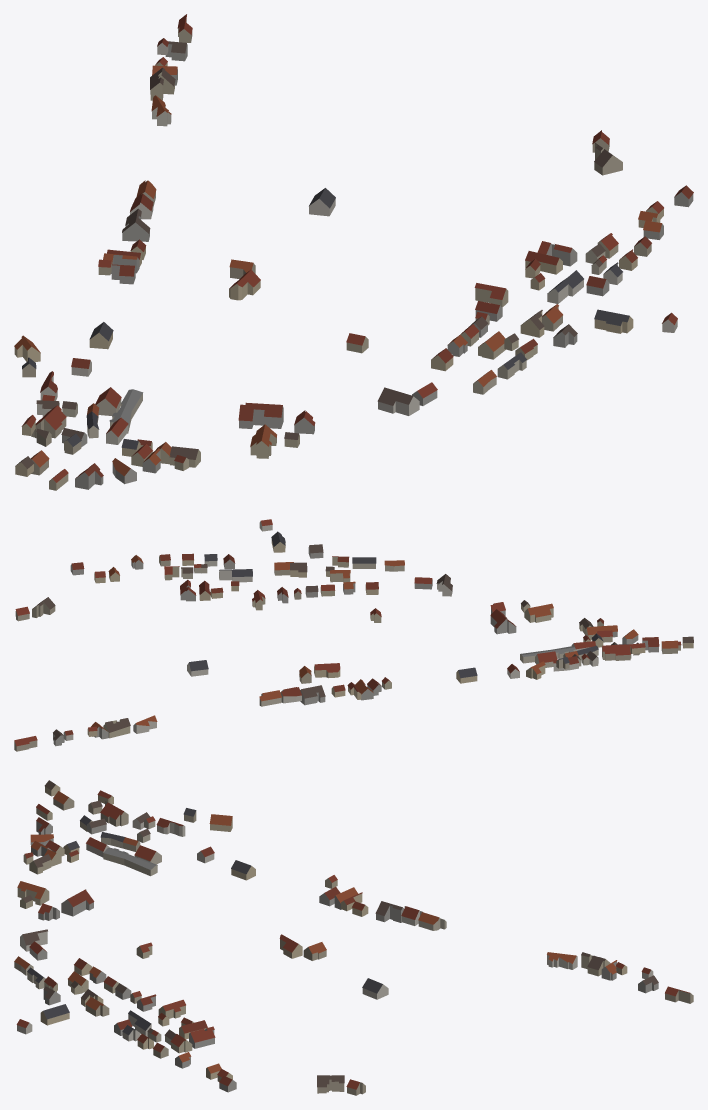
3 renders of one model, top to bottom at view 1: azimuth 30°, elevation 25°; view 2: azimuth 150°, elevation 25°; view 3: azimuth 270°, elevation 25°, orthographic. The views are drawn at different scales.
Parts seen in each view (by area): view 1: buildings; view 2: buildings; view 3: buildings.
Part boxes in pixels (bbox=[...]): buildings: bbox=[14, 14, 693, 490]; buildings: bbox=[14, 519, 693, 751]; buildings: bbox=[14, 780, 693, 1095].
Bounding box in the file's own units: 603 × 39.03 × 572.
